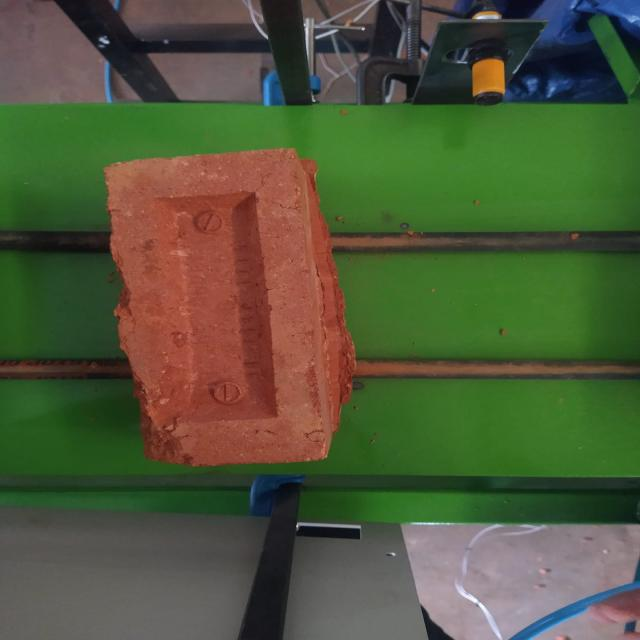bricks_ruin: (105, 148, 357, 465)
